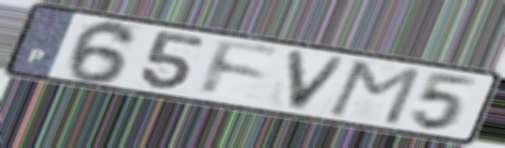5: (138, 27, 210, 92), (409, 69, 481, 132)
6: (63, 17, 143, 85)
F: (197, 36, 284, 99)
M: (323, 58, 426, 128)
V: (283, 47, 353, 114)
